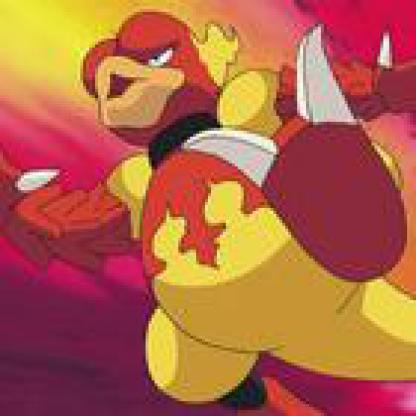Magmar: (1, 1, 414, 414)
